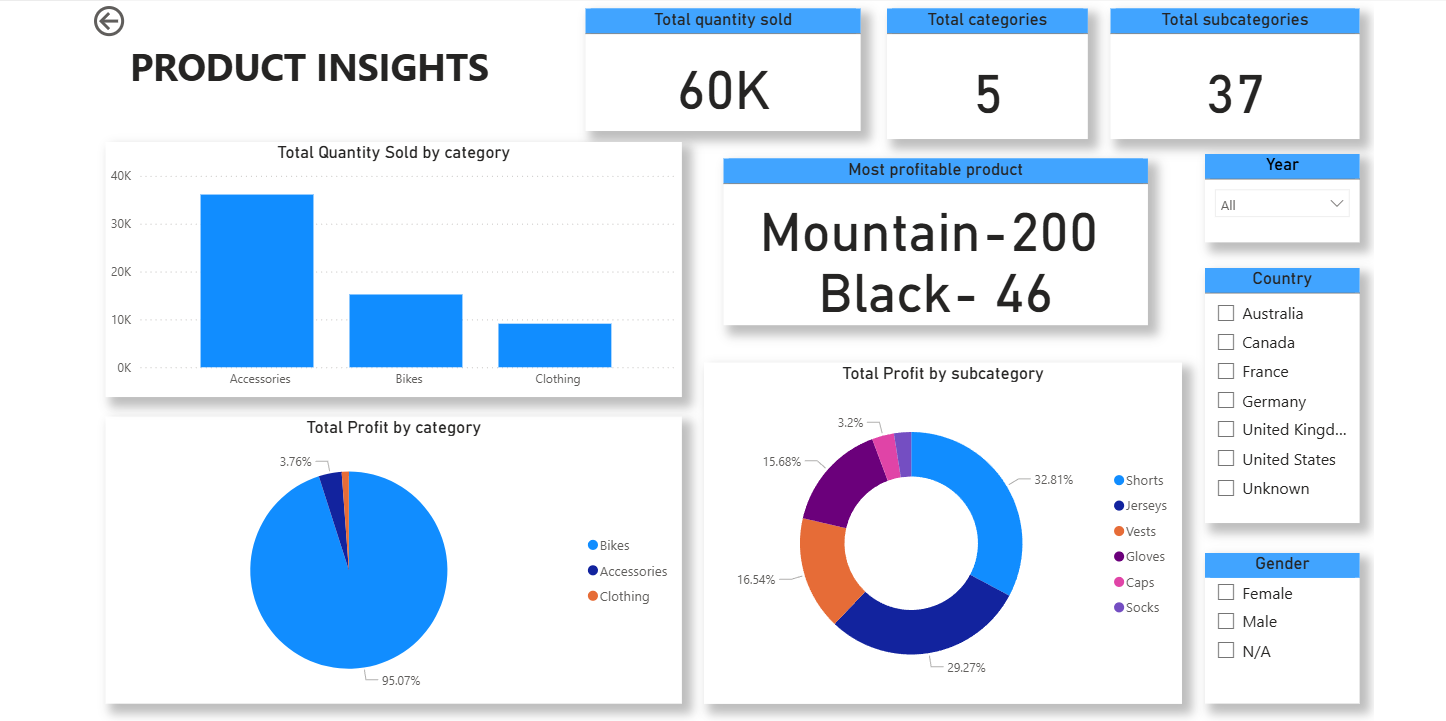

This screenshot's page, from the dashboard's own definition file:
{"tool":"powerbi","page":{"name":"Product Insights","canvas":[1280,720],"ordinal":3},"visuals":[{"type":"card","title":"Total quantity sold","fields":{"Values":["Table.Total Quantity Sold"]},"box":[494,8,274,122],"z":0},{"type":"card","title":"Total categories","fields":{"Values":["Table.Total Categories"]},"box":[794,8,200,130],"z":1000},{"type":"card","title":"Total subcategories","fields":{"Values":["Table.Total Subcategory"]},"box":[1018,8,248,130],"z":2000},{"type":"card","title":"Most profitable product","fields":{"Values":["Table.Top Product by Profit"]},"box":[631.6,156.7,422.6,166.2],"z":3000},{"type":"pieChart","fields":{"Y":["project sales.Total Profit"],"Category":["project products.category"]},"box":[16,414,574,286],"z":4000},{"type":"columnChart","fields":{"Y":["Table.Total Quantity Sold"],"Category":["project products.category"]},"box":[16,140,574,254],"z":5000},{"type":"donutChart","fields":{"Category":["clothing.subcategory"],"Y":["project sales.Total Profit"]},"box":[612,360,476,340],"z":6000},{"type":"slicer","title":"Country","fields":{"Values":["project customers.country"]},"box":[1112,266,154,254],"z":7000},{"type":"slicer","title":"Gender","fields":{"Values":["project customers.gender"]},"box":[1112,550,154,150],"z":8000},{"type":"slicer","title":"Year","fields":{"Values":["Calender.Date.Variation.Date Hierarchy.Year"]},"box":[1112,152,154,88],"z":9000},{"type":"textbox","box":[36,34,424,62],"z":10000},{"type":"actionButton","box":[0,0,100,40],"z":10001}]}

Visuals, with their boxes on the page's 1280x720 design canvas (x1, y1, x2, y2). These are canvas units, not pixel positions in the 1446x721 screenshot, which may show the page scaled, cropped or inside an application window:
"Total quantity sold" card: 494/8/768/130
"Total categories" card: 794/8/994/138
"Total subcategories" card: 1018/8/1266/138
"Most profitable product" card: 632/157/1054/323
pieChart - project sales.Total Profit x project products.category: 16/414/590/700
columnChart - Table.Total Quantity Sold x project products.category: 16/140/590/394
donutChart - clothing.subcategory x project sales.Total Profit: 612/360/1088/700
"Country" slicer: 1112/266/1266/520
"Gender" slicer: 1112/550/1266/700
"Year" slicer: 1112/152/1266/240
textbox: 36/34/460/96
actionButton: 0/0/100/40
